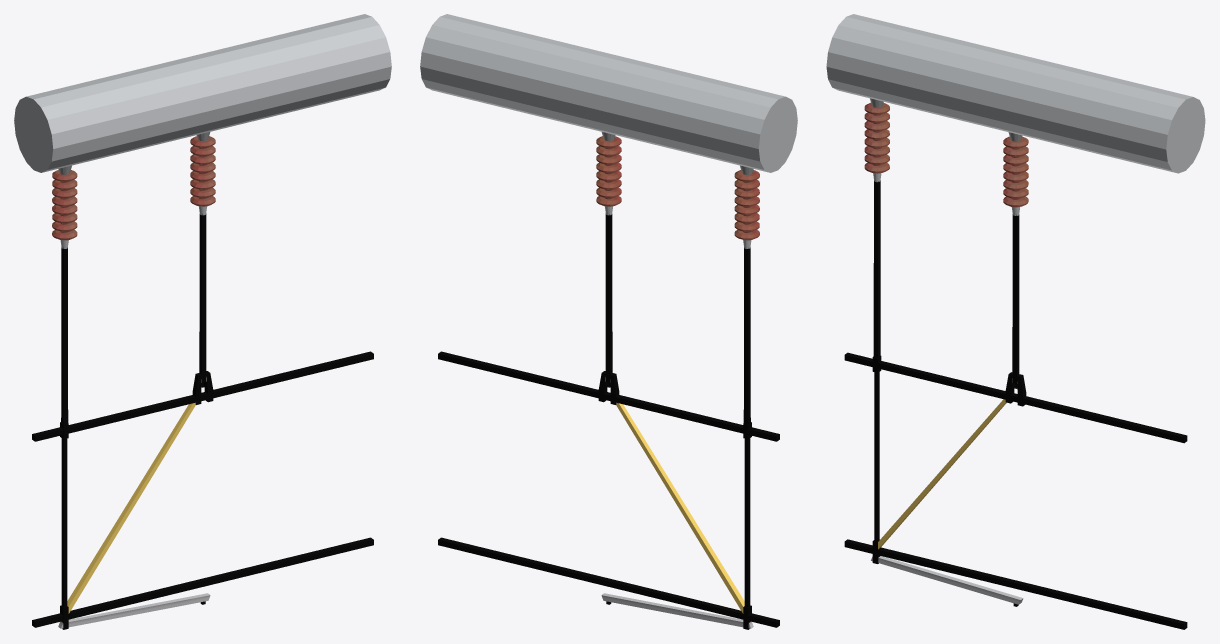
File: moretop_3_1.obj
The picture shows the model from 3 angles, left to right: view 1: azimuth 30°, elevation 25°; view 2: azimuth 150°, elevation 25°; view 3: azimuth 330°, elevation 25°; orthographic projection.
Parts seen in each view (by area): view 1: moretop_1.002, moretop_1.004, moretop_1.003; view 2: moretop_1.002, moretop_1.004, moretop_1.003; view 3: moretop_1.002, moretop_1.004, moretop_1.003.
Part boxes in pixels (x1=…): moretop_1.002: x1=14, y1=14, x2=391, y2=172; moretop_1.004: x1=32, y1=351, x2=373, y2=629; moretop_1.003: x1=52, y1=132, x2=215, y2=423; moretop_1.002: x1=420, y1=14, x2=797, y2=172; moretop_1.004: x1=438, y1=351, x2=779, y2=629; moretop_1.003: x1=596, y1=132, x2=759, y2=423; moretop_1.002: x1=826, y1=14, x2=1205, y2=173; moretop_1.004: x1=844, y1=352, x2=1187, y2=629; moretop_1.003: x1=864, y1=98, x2=1028, y2=383.
Bounding box in the file's own units: 2 × 3.08 × 0.4.
4 materials, 4 textured.
